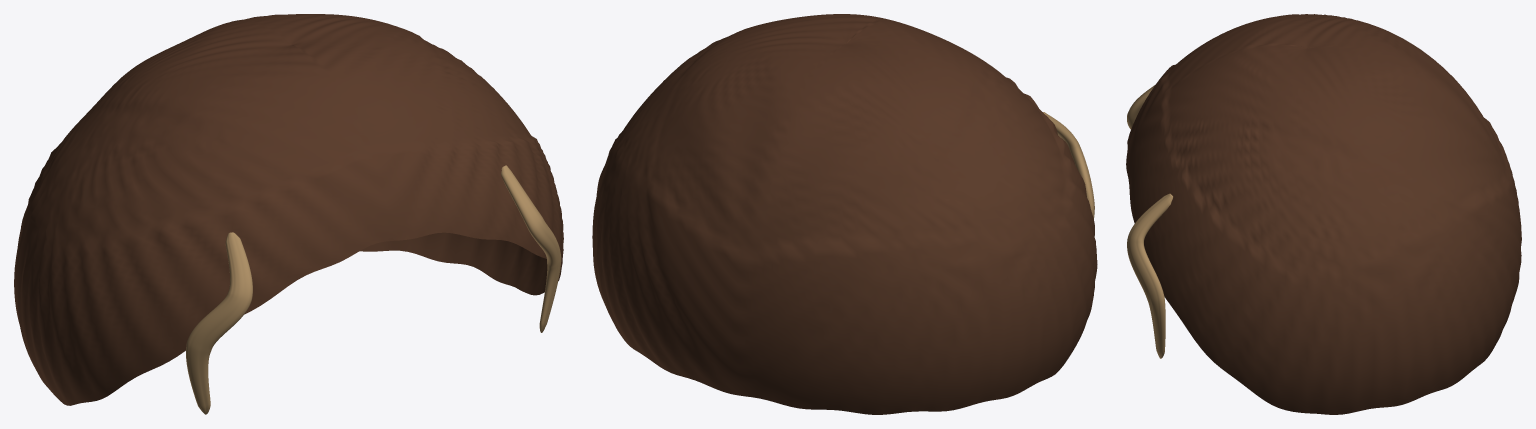
File: Highlights-ce5ce46ed058251-hair.glb
3 views of the same model, side by side, from view 1: azimuth 30°, elevation 25°; view 2: azimuth 150°, elevation 25°; view 3: azimuth 270°, elevation 25° (orthographic). The views are drawn at different scales.
Parts seen in each view (by area): view 1: 226 hair / Hair / chestnut226.001; view 2: 226 hair / Hair / chestnut226.001; view 3: 226 hair / Hair / chestnut226.001.
Boxes of the visible parts, x1=… form: 226 hair / Hair / chestnut226.001: x1=14, y1=14, x2=563, y2=414; 226 hair / Hair / chestnut226.001: x1=592, y1=14, x2=1097, y2=414; 226 hair / Hair / chestnut226.001: x1=1126, y1=14, x2=1521, y2=414.
Bounding box in the file's own units: 0.9988 × 0.599 × 0.7845.
